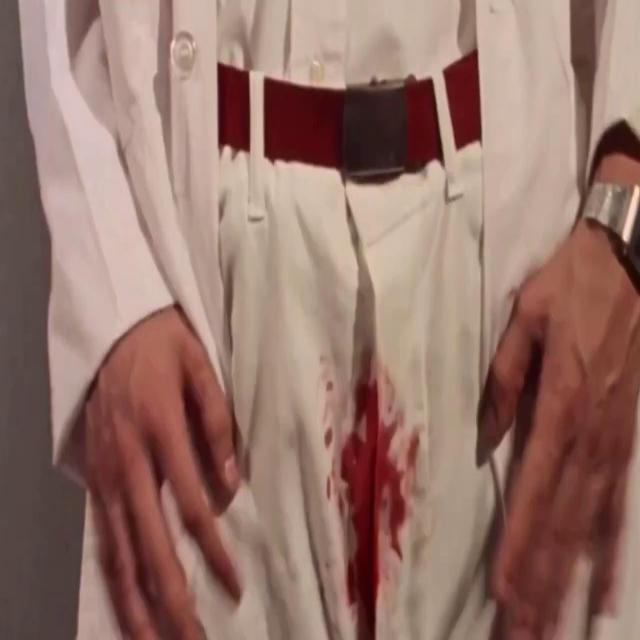flood: (304, 346, 423, 638)
